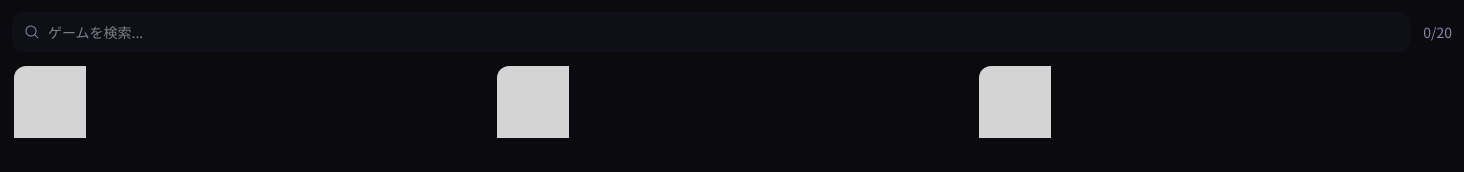
Test: GridGamePicker › 検索クエリでゲームをフィルタリングする
Type "apex" into the field with placeholder "ゲームを検索...".
click(712, 32); type("apex")  # box [12,12,1411,52]
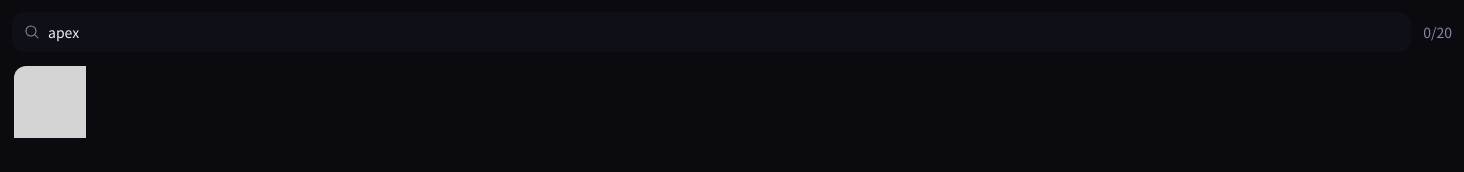
Check: the picture "Valorant" is gone
Check: the picture "Minecraft" is gone
